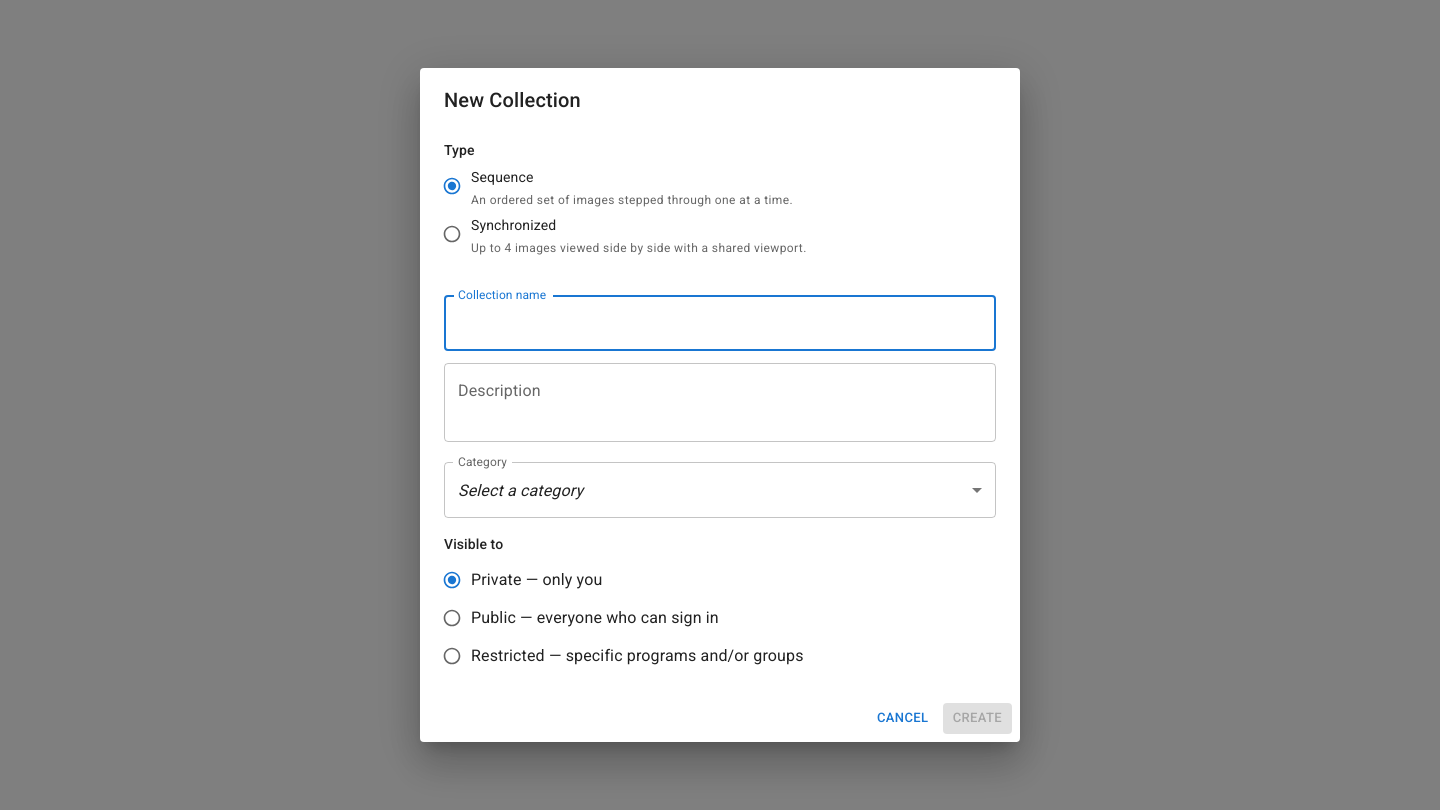
CollectionEditDialog › create mode › keeps create disabled after cancelling a top-level category add
Expected: the button "Create" is disabled, [943,703,1012,734]
Step 1. Click the dropdown labelled "category" → (521, 490), box [458,481,583,500]
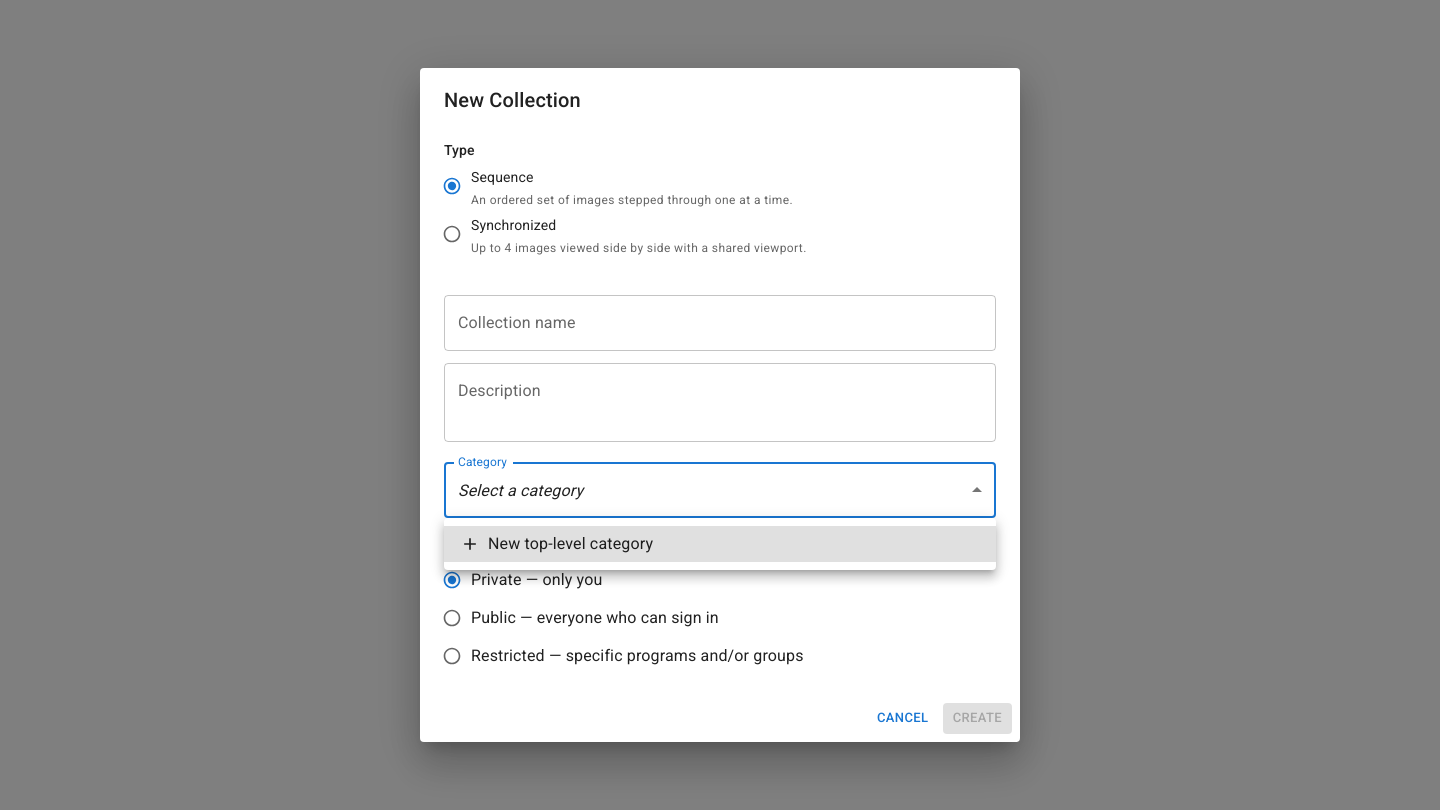
Step 2. Click the option "New top-level category" → (571, 544), box [444,526,996,562]
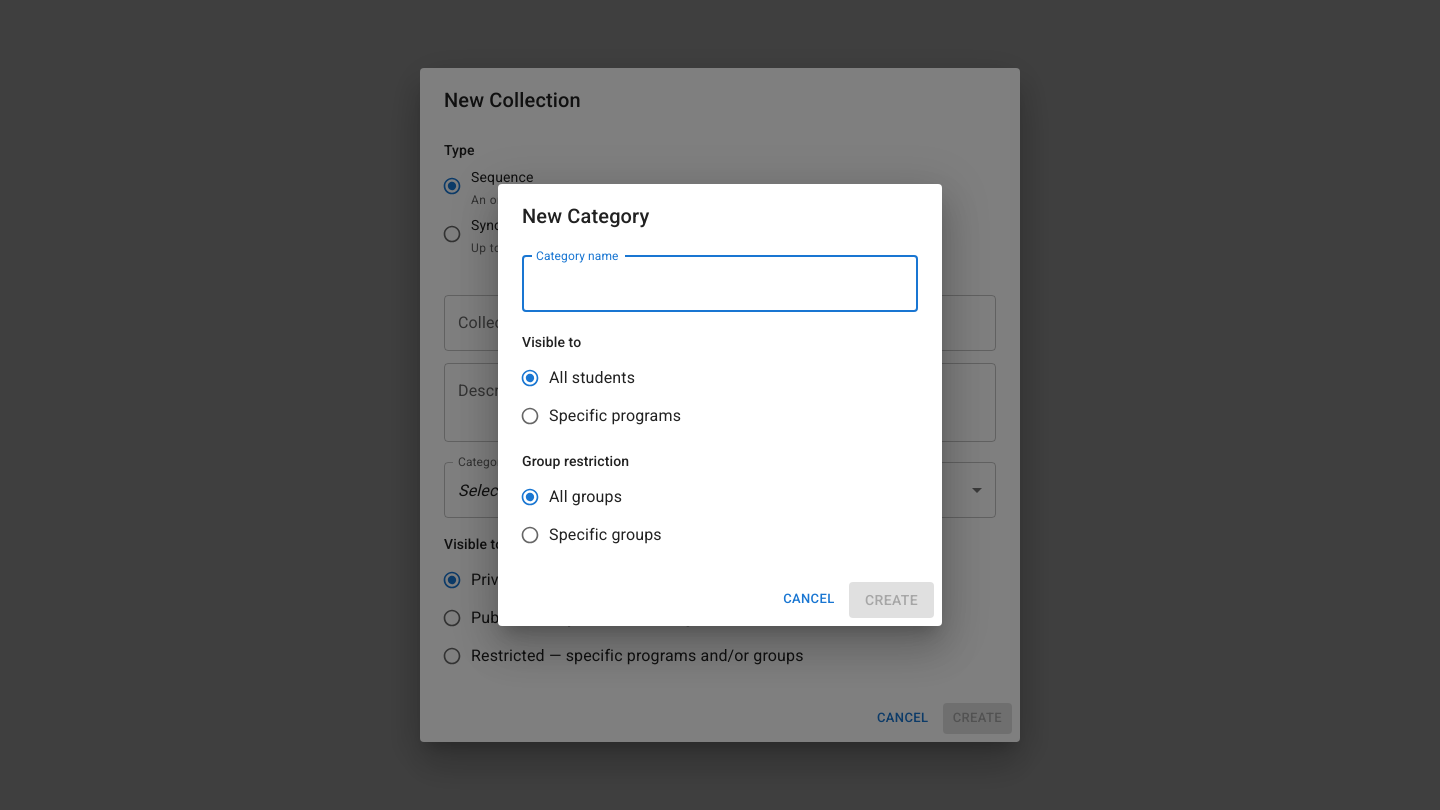
Step 3. Click the button "Cancel" → (809, 600), box [777,584,841,615]
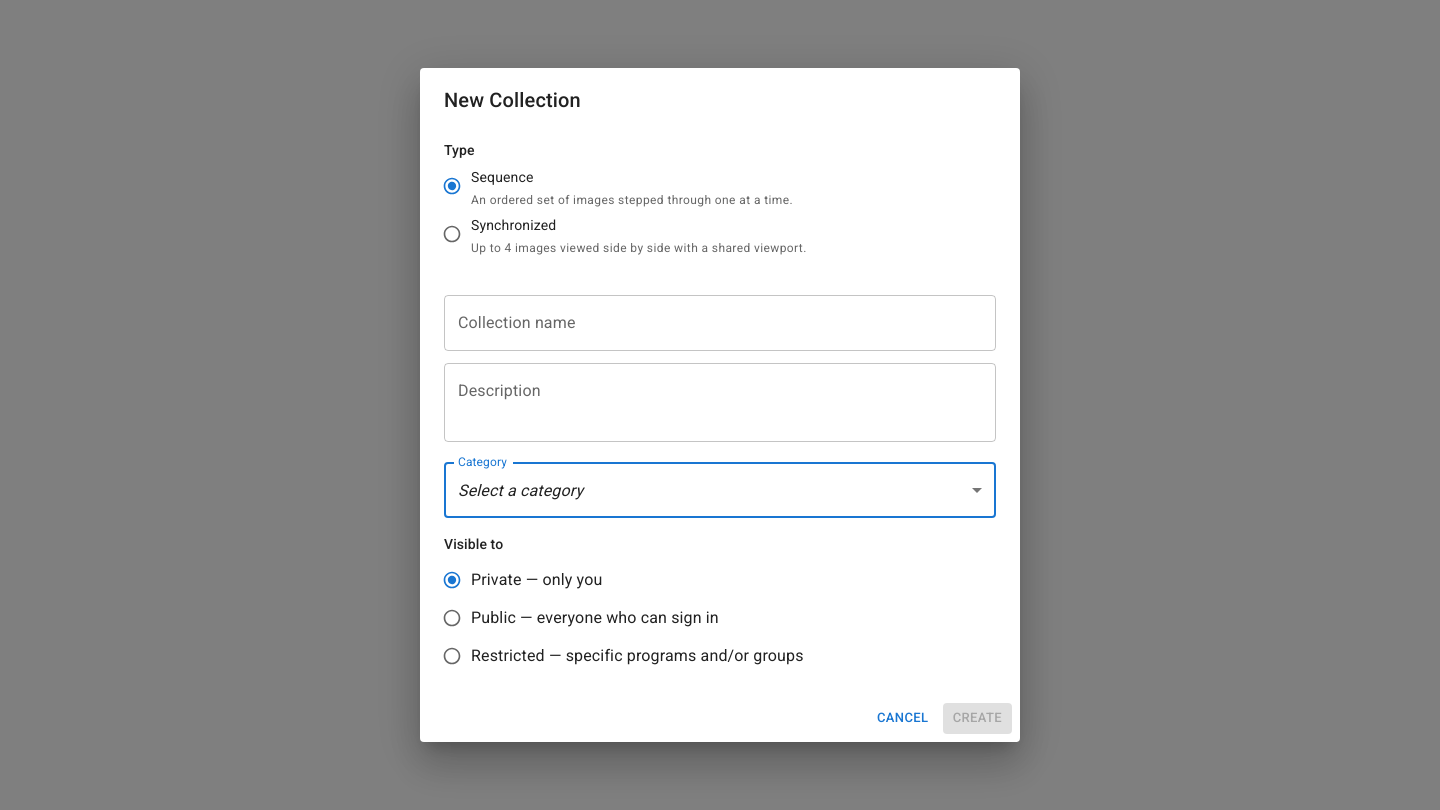
Expected: the button "Create" is disabled, [943,703,1012,734]
Expected: the heading "New Category" is gone
